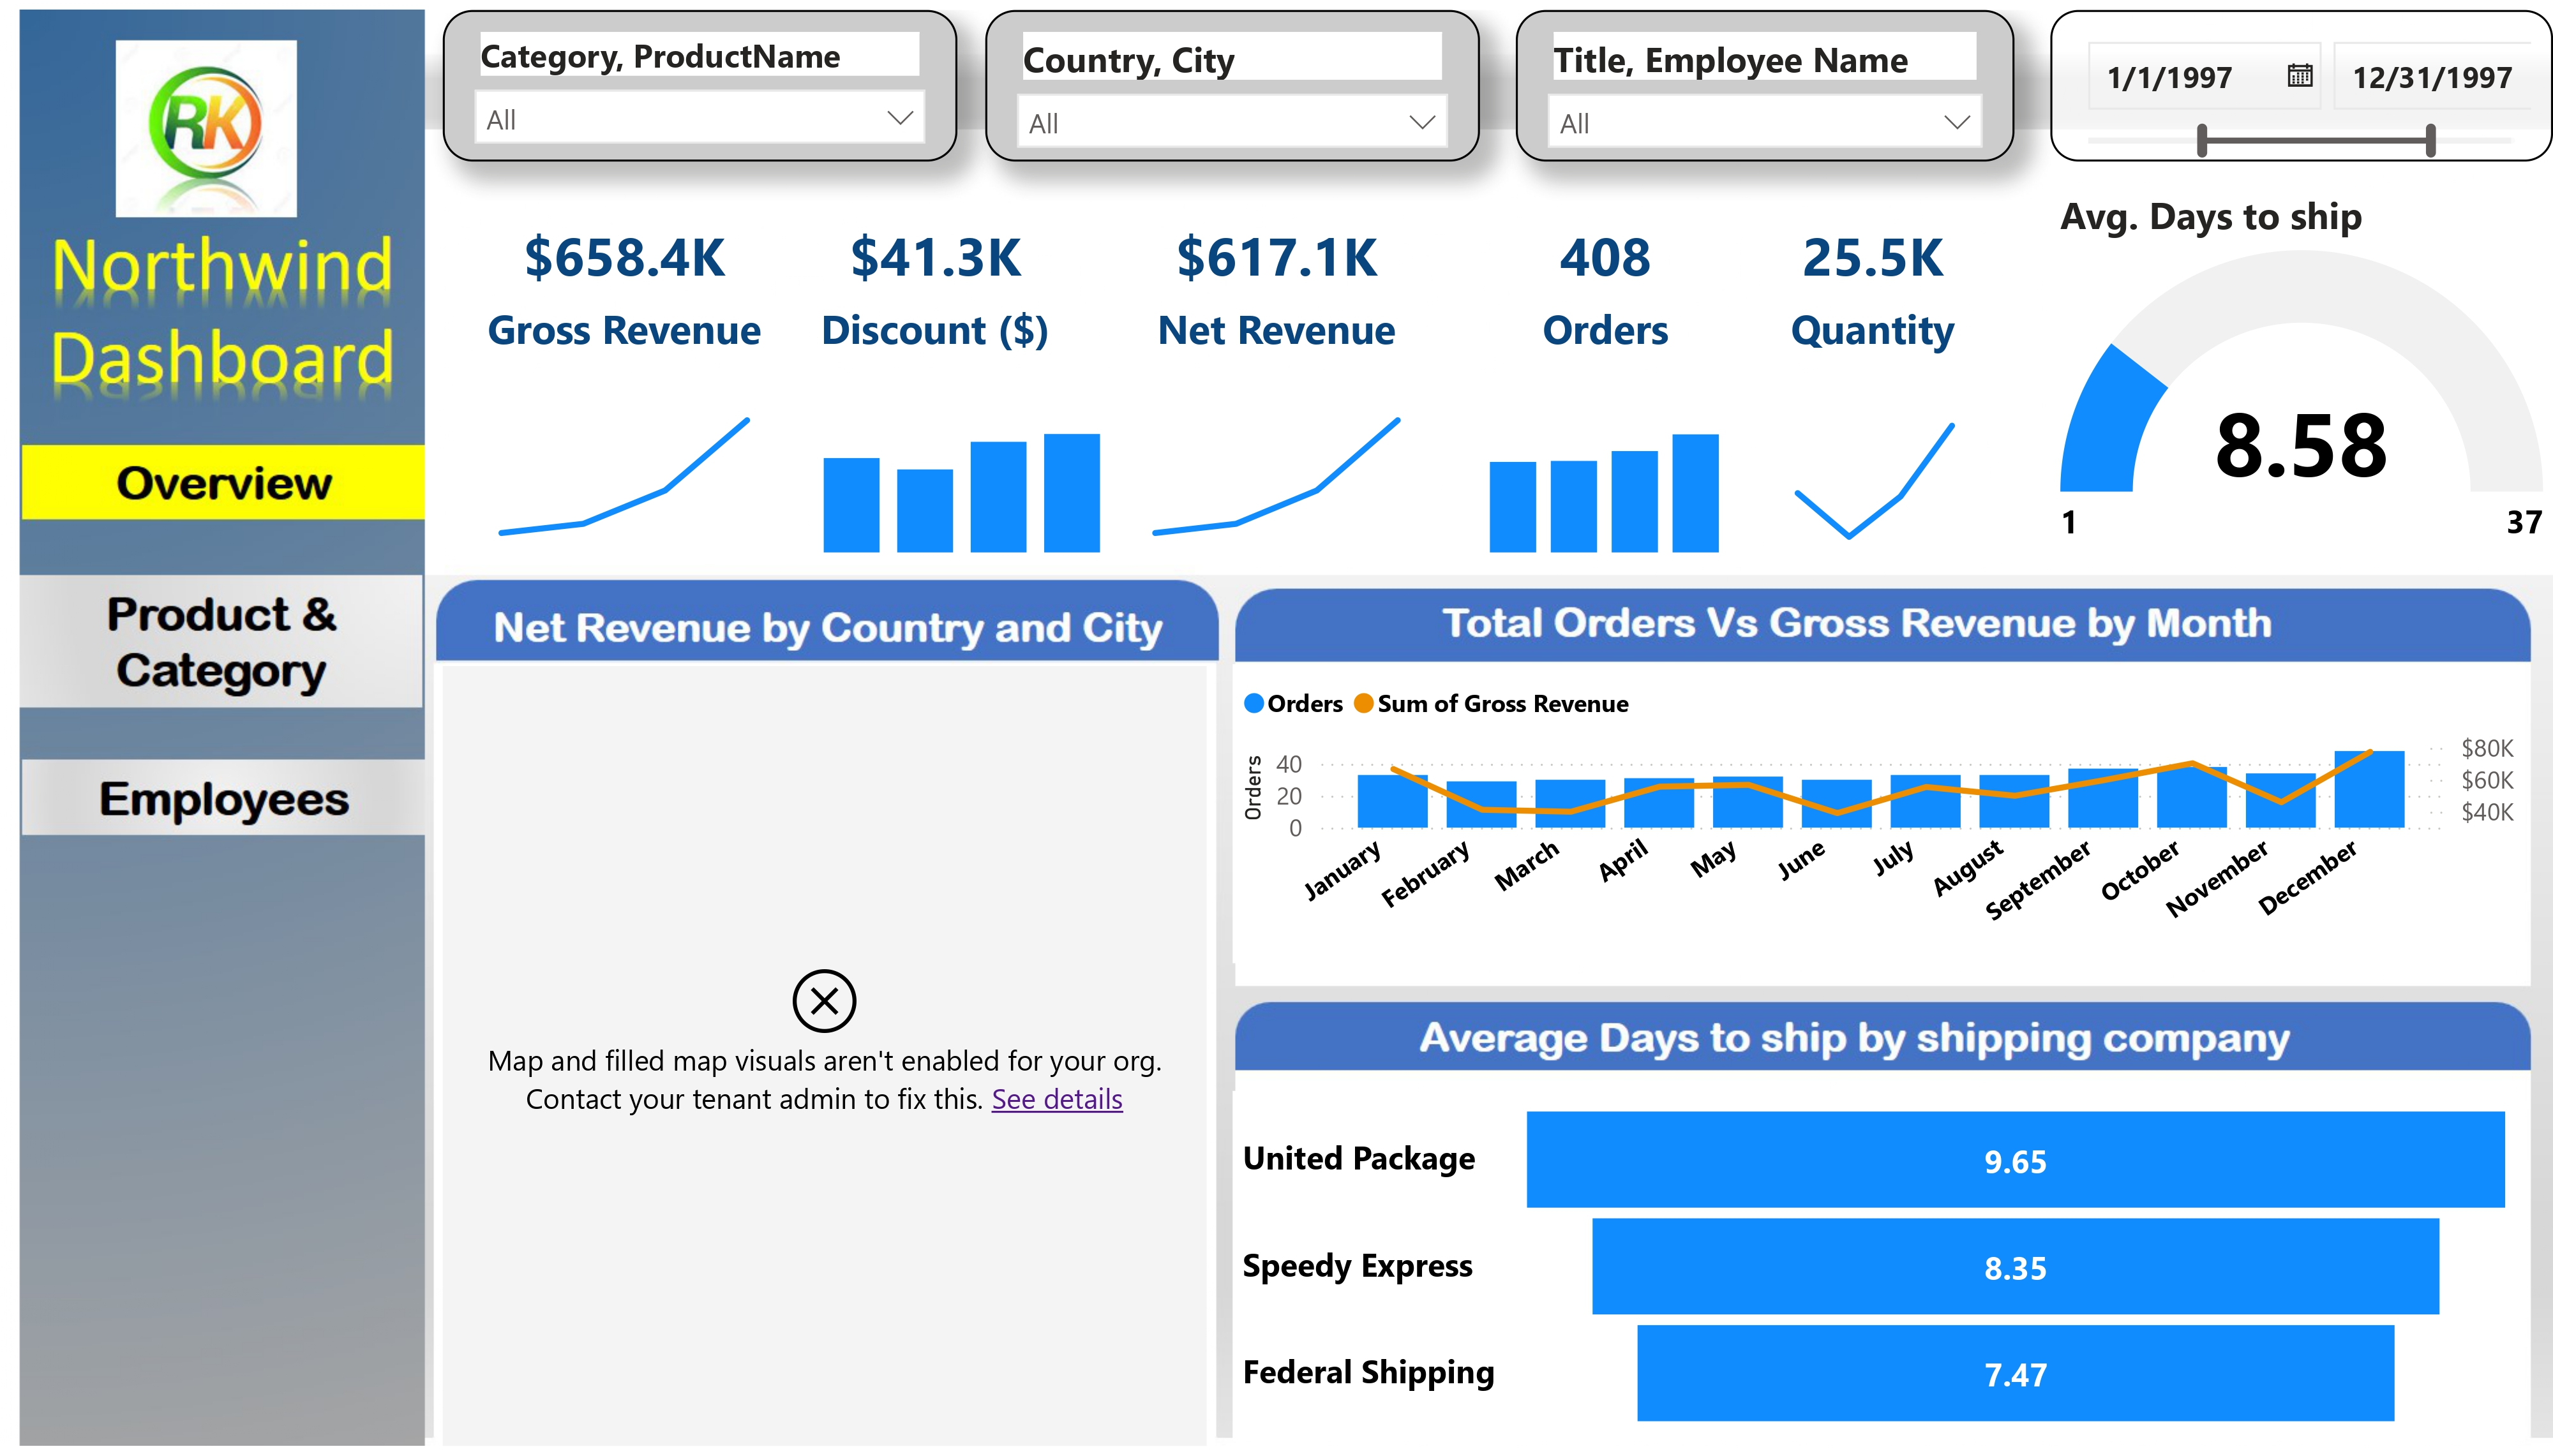

Layout of this report page (visuals, bound fields, positions):
{"tool":"powerbi","page":{"name":"Dashboard","canvas":[1280,720],"ordinal":0},"visuals":[{"type":"slicer","fields":{"Values":["Order_Details.OrderDate"]},"box":[1086.5,0,192.9,68.6],"z":0},{"type":"card","fields":{"Values":["Order_Details.Quantity"]},"box":[901.4,69,155.9,90.7],"z":1000},{"type":"card","fields":{"Values":["Order_Details.Sales Amount"]},"box":[192.8,69,171.5,90.7],"z":2000},{"type":"lineChart","fields":{"Y":["Order_Details.Quantity"],"Category":["Order_Details.Order Date.Variation.Date Hierarchy.Quarter"]},"box":[192.8,146,171.5,60.9],"z":3000},{"type":"clusteredColumnChart","fields":{"Y":["Order_Details.Discount ($)"],"Category":["Order_Details.Order Date.Variation.Date Hierarchy.Quarter"]},"box":[364.3,143.1,165.8,62.4],"z":4000},{"type":"card","fields":{"Values":["Order_Details.Discount ($)"]},"box":[368.5,69,184.3,87.9],"z":5000},{"type":"card","fields":{"Values":["Order_Details.Net Revenue"]},"box":[557,69,175.7,90.7],"z":6000},{"type":"lineChart","fields":{"Y":["Order_Details.Net Revenue"],"Category":["Order_Details.Order Date.Variation.Date Hierarchy.Quarter"]},"box":[545.7,146,164.4,62.4],"z":7000},{"type":"lineChart","fields":{"Y":["Order_Details.Quantity"],"Category":["Order_Details.Order Date.Variation.Date Hierarchy.Quarter"]},"box":[902.8,143.1,154.5,66.6],"z":8000},{"type":"funnel","fields":{"Category":["Order_Details.Shipping Company"],"Y":["Order_Details.Days to Ship"]},"box":[656.5,534.4,608.7,173.2],"z":9000},{"type":"map","fields":{"Category":["Order_Details.Country","Order_Details.City"],"Size":["Order_Details.Net Revenue"]},"box":[202,256.4,439,450.6],"z":10000},{"type":"clusteredColumnChart","fields":{"Y":["Order_Details.Quantity"],"Category":["Order_Details.Order Date.Variation.Date Hierarchy.Quarter"]},"box":[724.3,146,160.2,66.6],"z":11000},{"type":"card","fields":{"Values":["Order_Details.Total Orders"]},"box":[737,69,160.2,87.9],"z":12000},{"type":"gauge","title":"Avg. Days to Ship","fields":{"Y":["Order_Details.Days to Ship"],"MinValue":["Order_Details.Days to Ship"],"MaxValue":["Sum(Order_Details.Days to Ship)1"]},"box":[1056.1,75.2,222.2,135.4],"z":13000},{"type":"slicer","fields":{"Values":["Products.CategoryName","Products.ProductName"]},"box":[192.2,0,269,68.5],"z":14000},{"type":"slicer","fields":{"Values":["Order_Details.Country","Order_Details.City"]},"box":[494.6,1.7,275.7,68.5],"z":15000},{"type":"slicer","fields":{"Values":["Order_Details.Title","Order_Details.FirstName"]},"box":[803.8,0,282.4,68.5],"z":16000},{"type":"actionButton","box":[0,214,192.8,39.7],"z":17000},{"type":"lineClusteredColumnComboChart","fields":{"Category":["Order_Details.Order Date.Variation.Date Hierarchy.Month"],"Y":["Order_Details.Orders"],"Y2":["Order_Details.Gross Revenue"]},"box":[656.2,256.5,609.4,225.4],"z":18000},{"type":"actionButton","box":[0,284.9,192.8,39.7],"z":19000},{"type":"actionButton","box":[9.9,610.9,42.5,39.7],"z":20000},{"type":"actionButton","box":[75.1,610.9,42.5,39.7],"z":21000},{"type":"actionButton","box":[144.6,609.4,42.5,39.7],"z":22000},{"type":"actionButton","box":[12.9,660.4,165.8,31.1],"z":23000}]}

Visuals, with their boxes in screenshot pixels (x1, y1, x2, y2), scaled from the page's 1280x720 canvas onto the 2553x1456 screenshot:
slicer - Order_Details.OrderDate: (left=2167, top=0, right=2552, bottom=138)
card - Order_Details.Quantity: (left=1798, top=140, right=2109, bottom=323)
card - Order_Details.Sales Amount: (left=384, top=140, right=726, bottom=323)
lineChart - Order_Details.Quantity x Order_Details.Order Date.Variation.Date Hierarchy.Quarter: (left=384, top=295, right=726, bottom=419)
clusteredColumnChart - Order_Details.Discount ($) x Order_Details.Order Date.Variation.Date Hierarchy.Quarter: (left=726, top=290, right=1058, bottom=415)
card - Order_Details.Discount ($): (left=735, top=140, right=1102, bottom=317)
card - Order_Details.Net Revenue: (left=1111, top=140, right=1462, bottom=323)
lineChart - Order_Details.Net Revenue x Order_Details.Order Date.Variation.Date Hierarchy.Quarter: (left=1088, top=295, right=1416, bottom=422)
lineChart - Order_Details.Quantity x Order_Details.Order Date.Variation.Date Hierarchy.Quarter: (left=1801, top=290, right=2109, bottom=424)
funnel - Order_Details.Shipping Company x Order_Details.Days to Ship: (left=1310, top=1081, right=2524, bottom=1431)
map - Order_Details.Country x Order_Details.City: (left=403, top=519, right=1278, bottom=1430)
clusteredColumnChart - Order_Details.Quantity x Order_Details.Order Date.Variation.Date Hierarchy.Quarter: (left=1444, top=295, right=1764, bottom=430)
card - Order_Details.Total Orders: (left=1470, top=140, right=1790, bottom=317)
"Avg. Days to Ship" gauge: (left=2106, top=152, right=2550, bottom=426)
slicer - Products.CategoryName x Products.ProductName: (left=384, top=0, right=920, bottom=138)
slicer - Order_Details.Country x Order_Details.City: (left=987, top=3, right=1536, bottom=142)
slicer - Order_Details.Title x Order_Details.FirstName: (left=1603, top=0, right=2166, bottom=138)
actionButton: (left=0, top=433, right=384, bottom=513)
lineClusteredColumnComboChart - Order_Details.Order Date.Variation.Date Hierarchy.Month x Order_Details.Orders: (left=1309, top=519, right=2524, bottom=974)
actionButton: (left=0, top=576, right=384, bottom=657)
actionButton: (left=20, top=1235, right=105, bottom=1316)
actionButton: (left=150, top=1235, right=235, bottom=1316)
actionButton: (left=288, top=1232, right=373, bottom=1312)
actionButton: (left=26, top=1335, right=356, bottom=1399)
